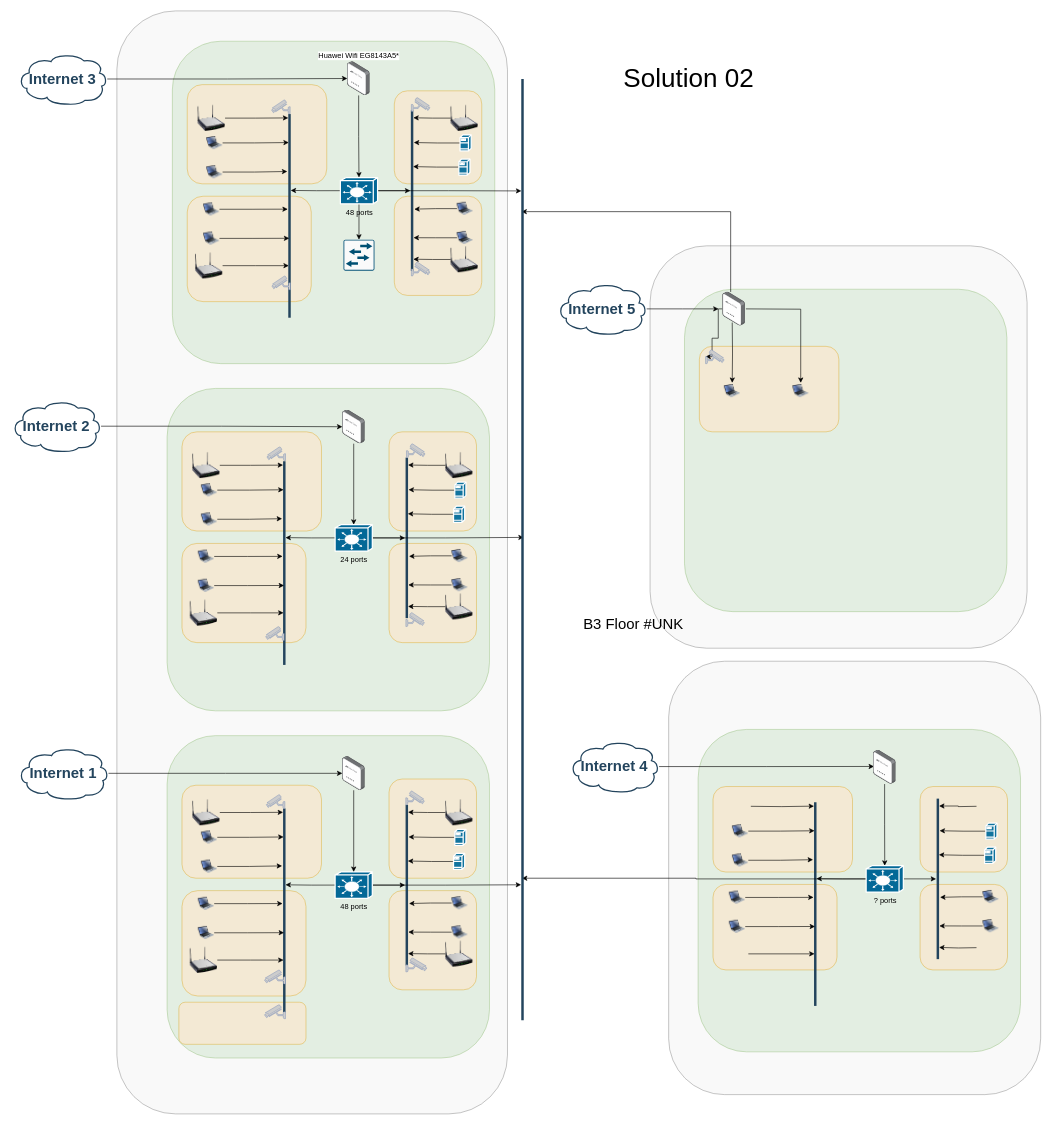
Image size: 1052x1125. Some labels were removed from this diagram. Here are the shapes that lost their labels. From the top down, the box of each, then its label:
(172, 41, 495, 364): B1 Floor #3
(343, 239, 374, 271): 8 port switch for cams
(166, 388, 489, 711): B1 Floor #2
(166, 735, 489, 1058): B1 Floor #1
(698, 729, 1021, 1052): B2 Floor #UNK
